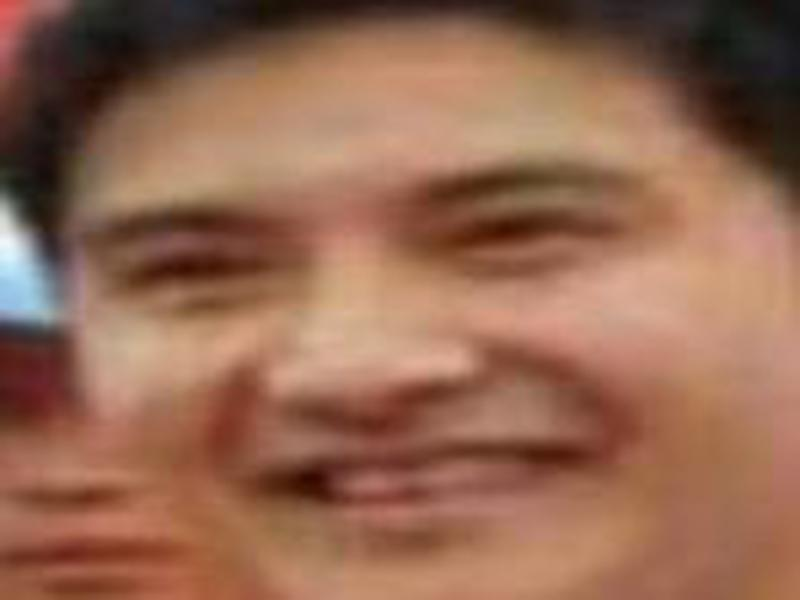without_mask: (70, 116, 800, 600)
